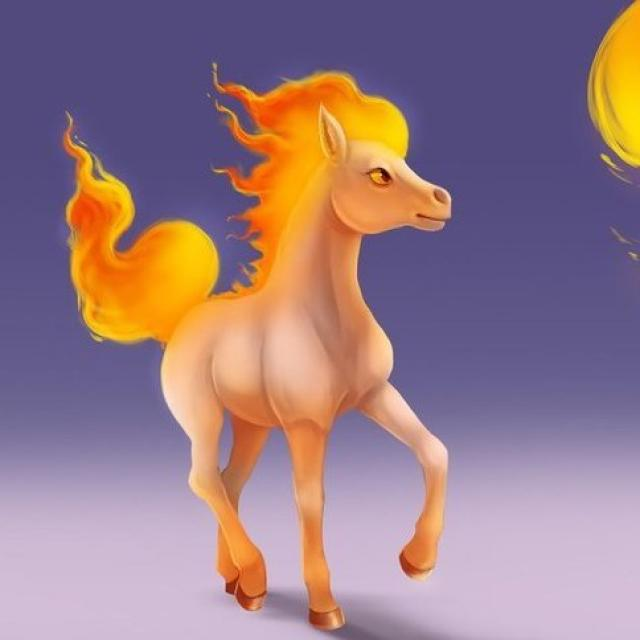Ponyta: (119, 86, 458, 627)
